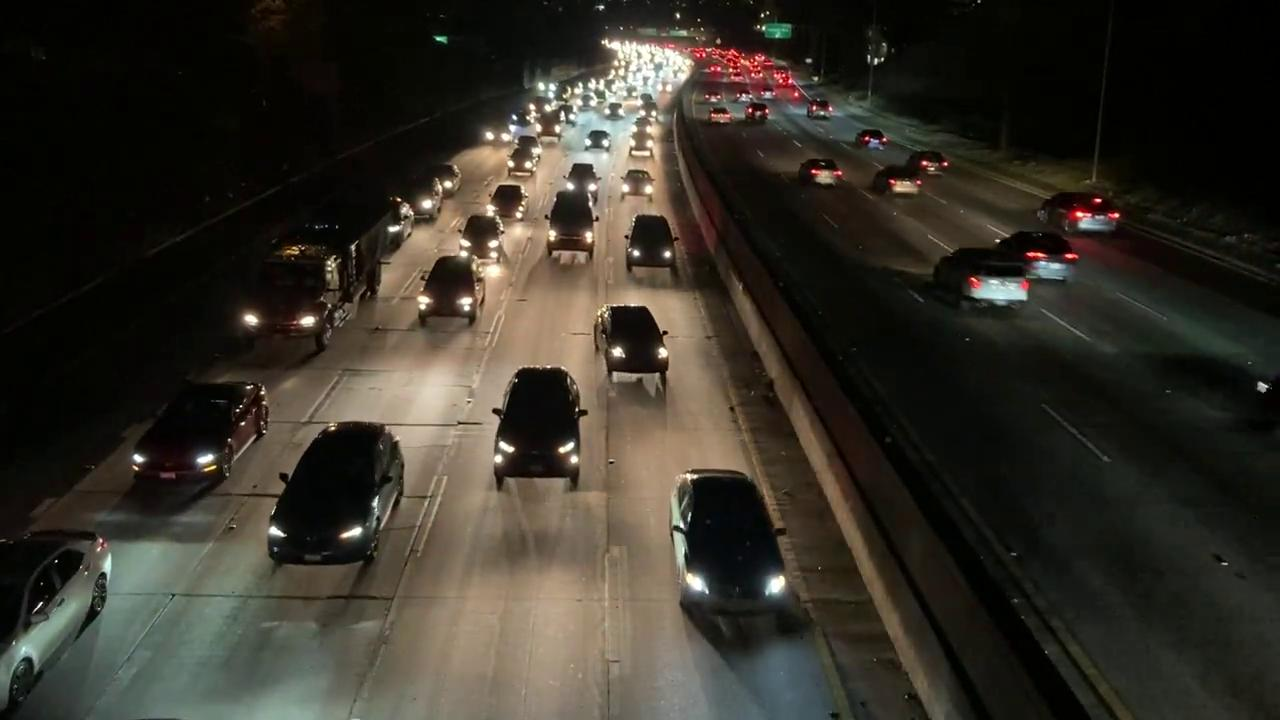car: (261, 419, 404, 562), (667, 461, 795, 614), (6, 521, 114, 701), (128, 379, 272, 486), (488, 366, 587, 486), (593, 301, 671, 375), (419, 257, 487, 323), (984, 232, 1079, 279), (1038, 194, 1122, 236), (548, 191, 599, 259), (625, 214, 679, 271), (457, 214, 507, 257), (560, 162, 600, 201), (489, 184, 529, 219), (798, 160, 846, 188), (908, 151, 948, 179), (623, 168, 655, 201), (586, 128, 612, 152)
truck: (234, 201, 390, 343)
